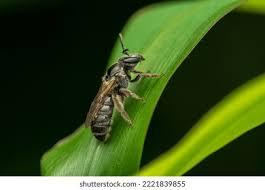Lasioglossum: (78, 27, 158, 145)
